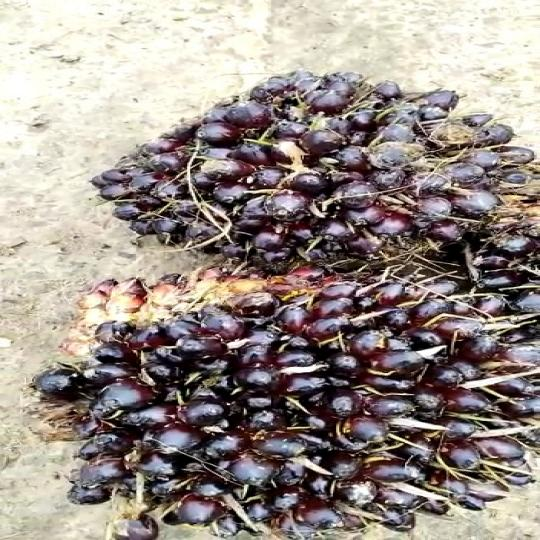mentah: (33, 260, 540, 537), (77, 57, 540, 272)
